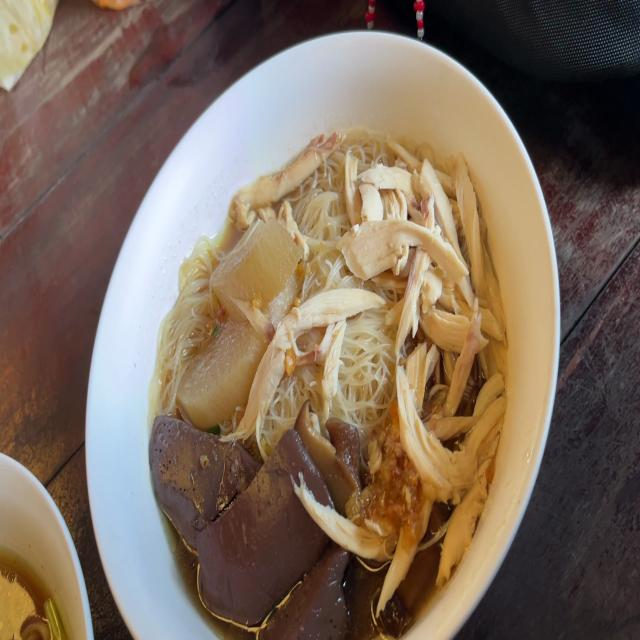boiled_chicken_blood_jelly: (155, 418, 346, 622)
chicken_shredded: (371, 154, 499, 489)
daikon_radish: (212, 224, 299, 314), (184, 330, 270, 416)
noodle: (145, 109, 508, 640), (0, 506, 67, 640)
